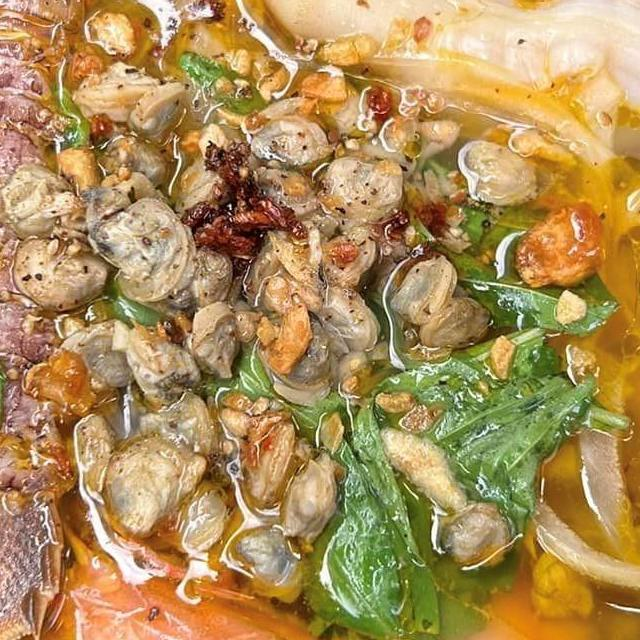bun hai san: (0, 0, 640, 640)
tom: (2, 435, 639, 640)
tom tit: (0, 0, 134, 640)
